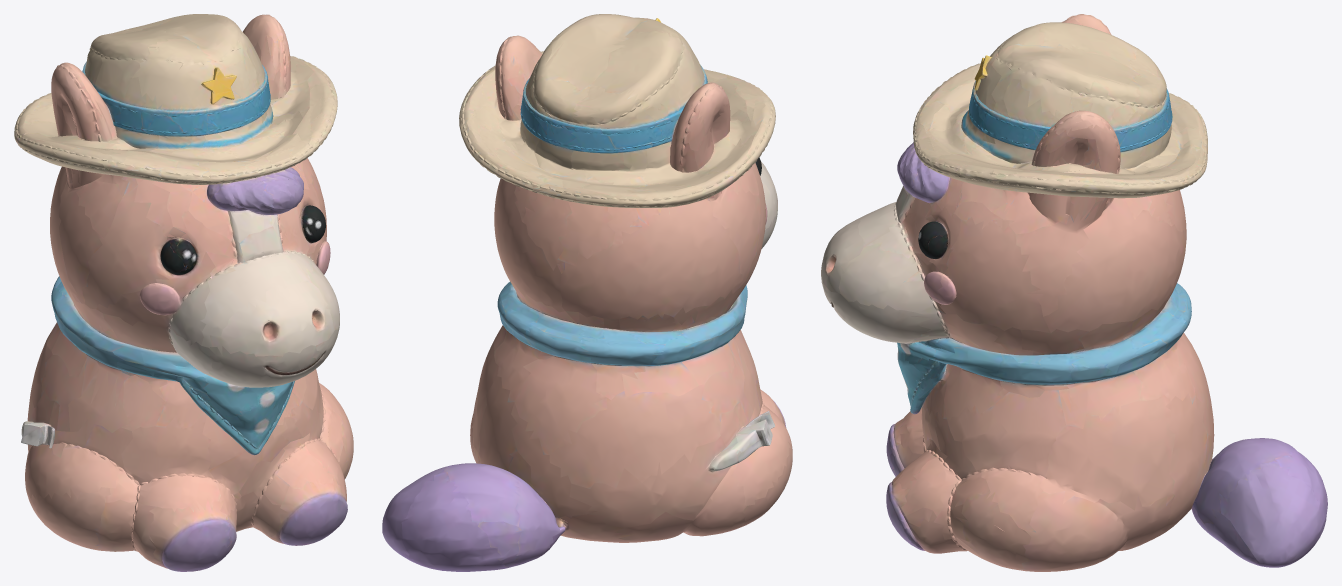
Rendered from cowpony.gen.glb.
The picture shows the model from 3 angles, left to right: view 1: azimuth 30°, elevation 25°; view 2: azimuth 150°, elevation 25°; view 3: azimuth 270°, elevation 25°; orthographic projection.
Parts seen in each view (by area): view 1: LOD0; view 2: LOD0; view 3: LOD0.
Part boxes in pixels (box(x1,y1,x2,y2)): LOD0: box(14, 14, 353, 571); LOD0: box(382, 14, 792, 571); LOD0: box(821, 14, 1327, 571).
Size of what is drawn, in the model's own units: 0.1446 by 0.2155 by 0.2099.
Materials: 1 (1 with a texture image).
